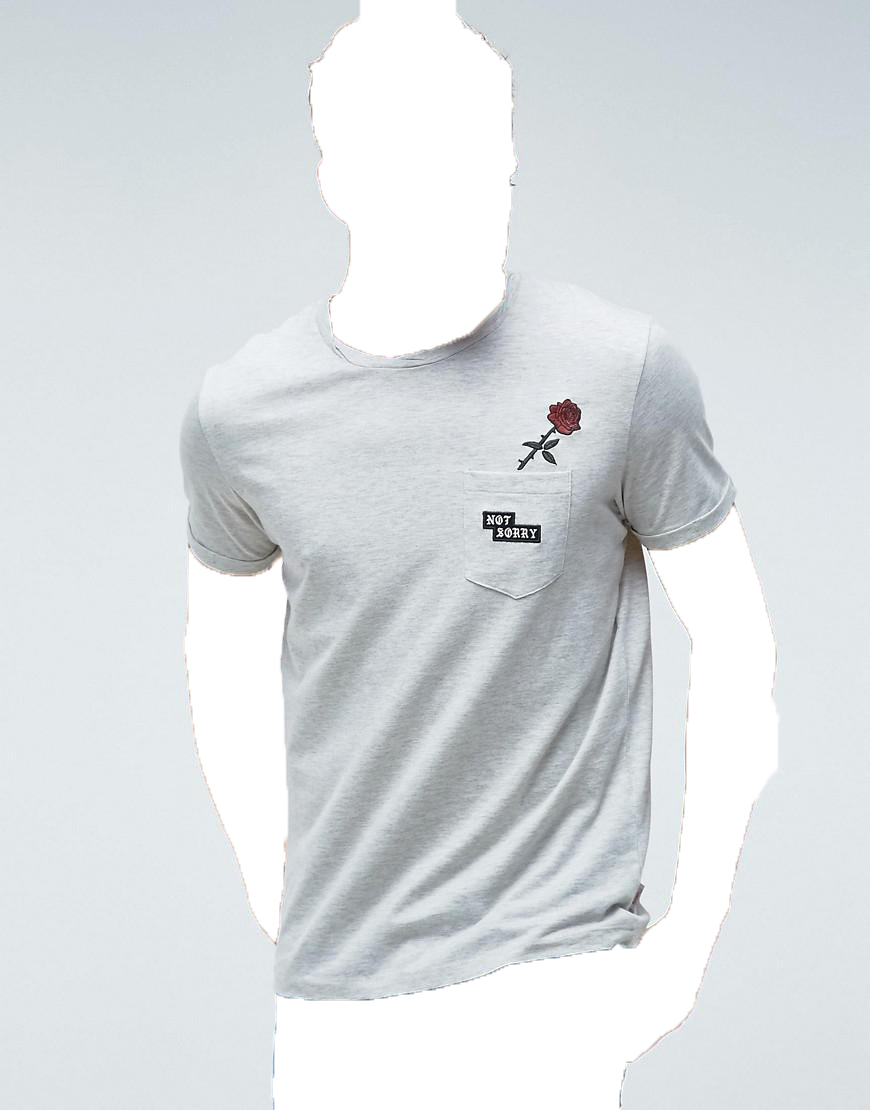teeshirt: (164, 278, 742, 1020)
